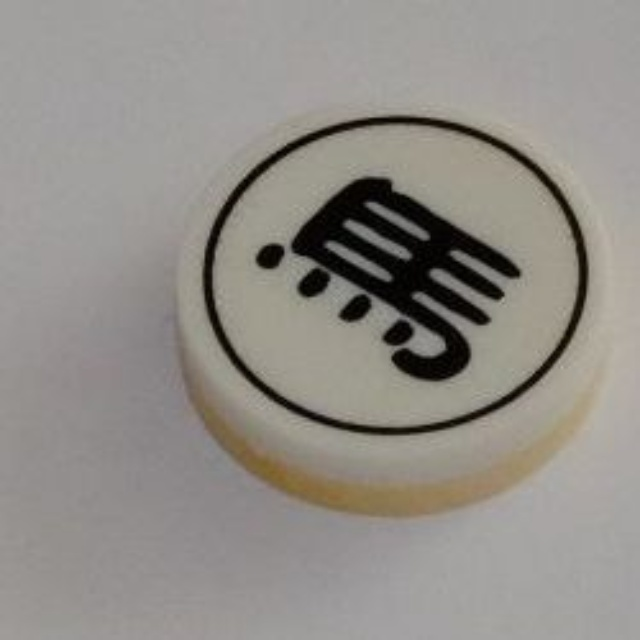black_ma: (169, 97, 622, 526)
